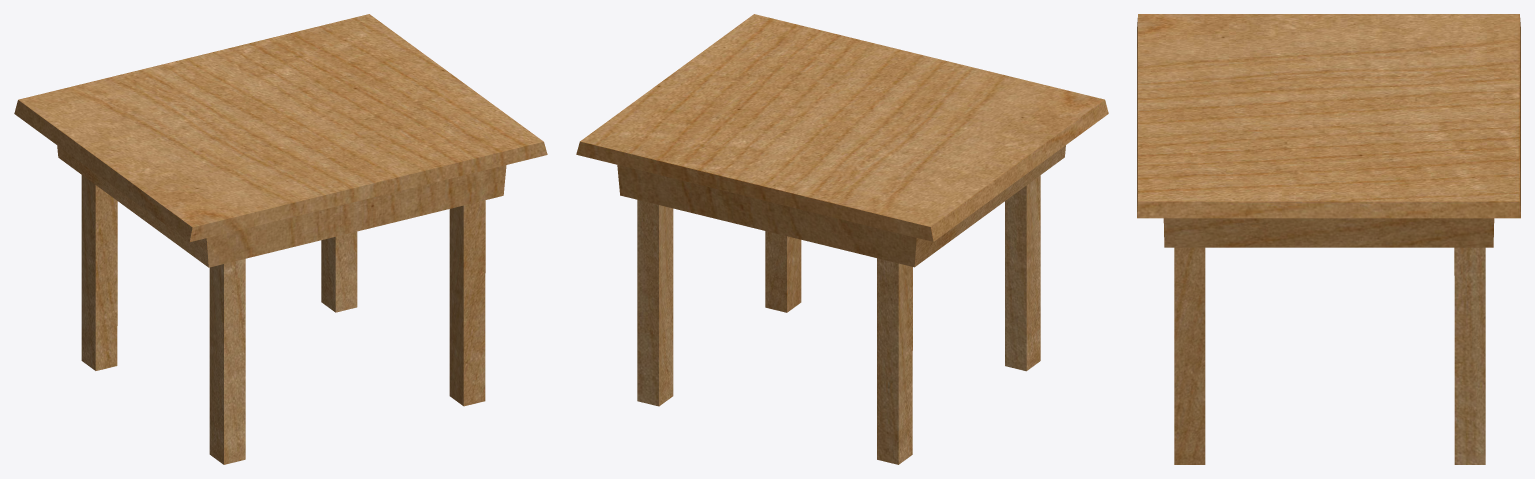
The model's file is tableSmall.fbx.
3 renders of one model, left to right at view 1: azimuth 30°, elevation 25°; view 2: azimuth 150°, elevation 25°; view 3: azimuth 270°, elevation 25°, orthographic. The views are drawn at different scales.
Visible parts, largest first — view 1: TableSmal; view 2: TableSmal; view 3: TableSmal.
Boxes of the visible parts, bbox=[...] form: TableSmal: bbox=[14, 14, 547, 464]; TableSmal: bbox=[576, 14, 1108, 464]; TableSmal: bbox=[1137, 14, 1520, 464].
Size of the model in its own units: 1.53 by 1.07 by 1.3.
Materials: 1 (1 with a texture image).
